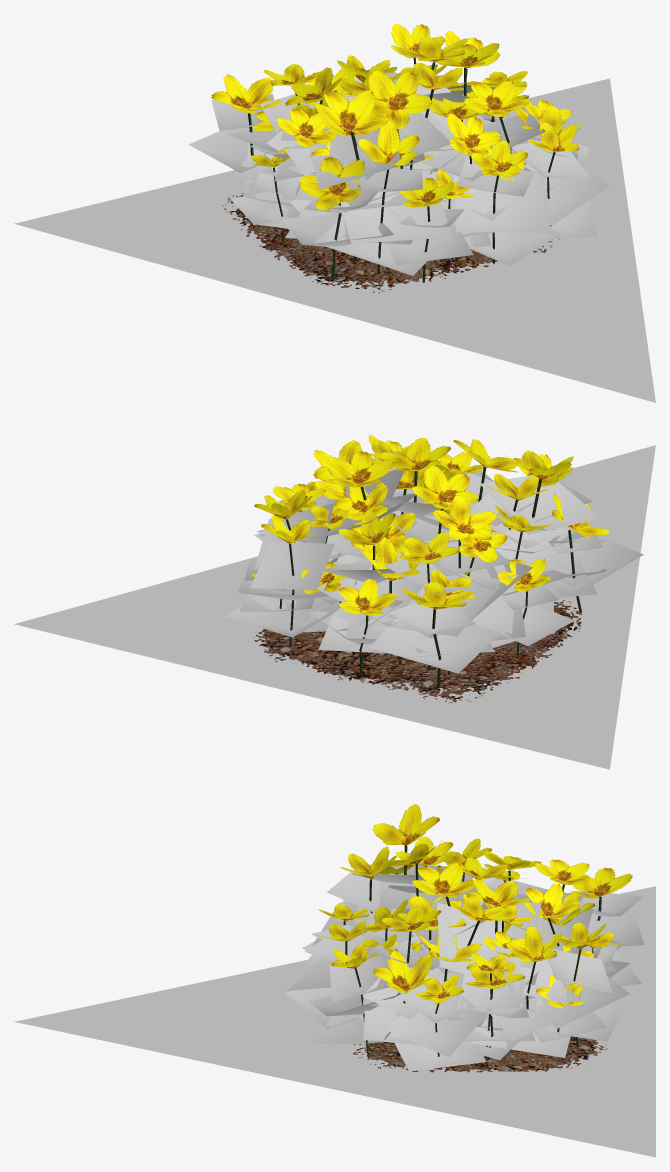
Rendered from Bidens.fbx.
The picture shows the model from 3 angles, top to bottom: view 1: azimuth 30°, elevation 25°; view 2: azimuth 150°, elevation 25°; view 3: azimuth 270°, elevation 25°; orthographic projection. The views are drawn at different scales.
Visible parts, largest first — view 1: Sol_Bidens_Ao, Carre_Fleur_Bidens, fleur, terre; view 2: Sol_Bidens_Ao, Carre_Fleur_Bidens, fleur, terre; view 3: Sol_Bidens_Ao, Carre_Fleur_Bidens, fleur, terre.
Part boxes in pixels (x1,y1,x2,y2): Sol_Bidens_Ao: [14, 78, 655, 402]; Carre_Fleur_Bidens: [189, 57, 609, 282]; fleur: [211, 23, 583, 210]; terre: [222, 193, 560, 293]; Sol_Bidens_Ao: [14, 445, 655, 769]; Carre_Fleur_Bidens: [225, 450, 643, 687]; fleur: [251, 435, 609, 615]; terre: [253, 600, 581, 703]; Sol_Bidens_Ao: [14, 886, 655, 1157]; Carre_Fleur_Bidens: [285, 845, 644, 1071]; fleur: [317, 804, 632, 1008]; terre: [352, 1036, 607, 1072].
Bounding box in the file's own units: 122 × 35.63 × 122.
